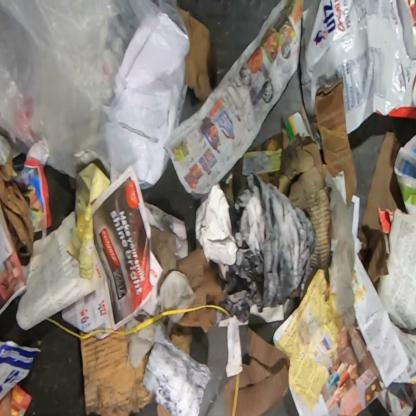cardboard: (233, 76, 358, 282), (80, 324, 156, 414), (224, 328, 289, 416), (168, 324, 194, 354)
soft_plastic: (1, 0, 192, 188), (299, 0, 415, 140)
